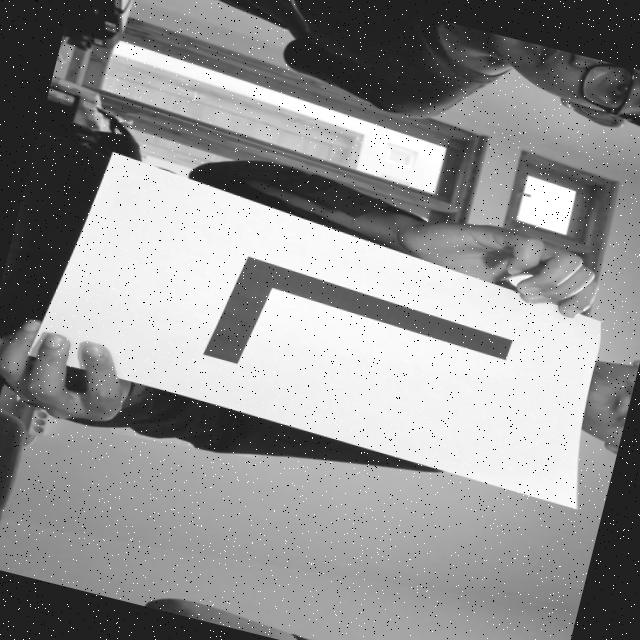l: (162, 212, 540, 435)
